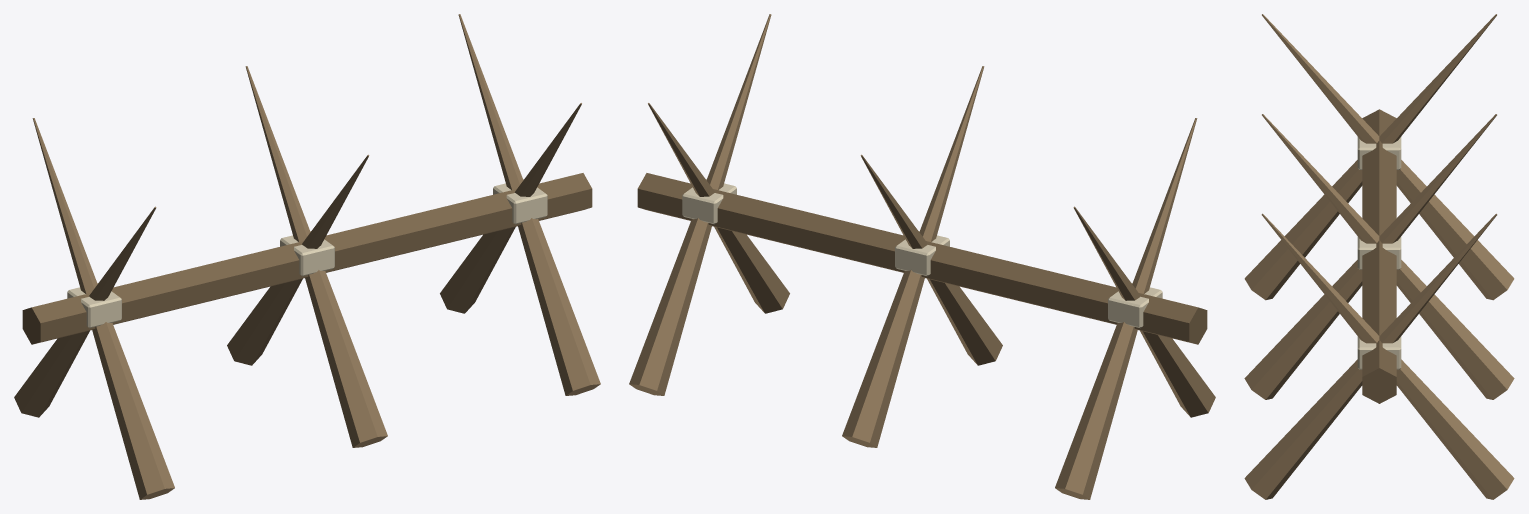
The model's file is stakes.glb.
3 views of the same model, side by side, from view 1: azimuth 30°, elevation 25°; view 2: azimuth 150°, elevation 25°; view 3: azimuth 270°, elevation 25° (orthographic). The views are drawn at different scales.
Visible parts, largest first — view 1: stakes_oak, stakes_oak_dark, stakes_linen; view 2: stakes_oak, stakes_oak_dark, stakes_linen; view 3: stakes_oak, stakes_oak_dark, stakes_linen.
Boxes of the visible parts, left/top/right/bottom form: stakes_oak: left=14, top=14, right=600, bottom=499; stakes_oak_dark: left=22, top=173, right=592, bottom=344; stakes_linen: left=67, top=179, right=547, bottom=328; stakes_oak: left=629, top=14, right=1215, bottom=499; stakes_oak_dark: left=637, top=173, right=1207, bottom=344; stakes_linen: left=682, top=179, right=1162, bottom=328; stakes_oak: left=1244, top=14, right=1514, bottom=499; stakes_oak_dark: left=1362, top=109, right=1396, bottom=403; stakes_linen: left=1357, top=137, right=1401, bottom=369.
Size of the model in its own units: 3.24 by 1.66 by 1.43.
